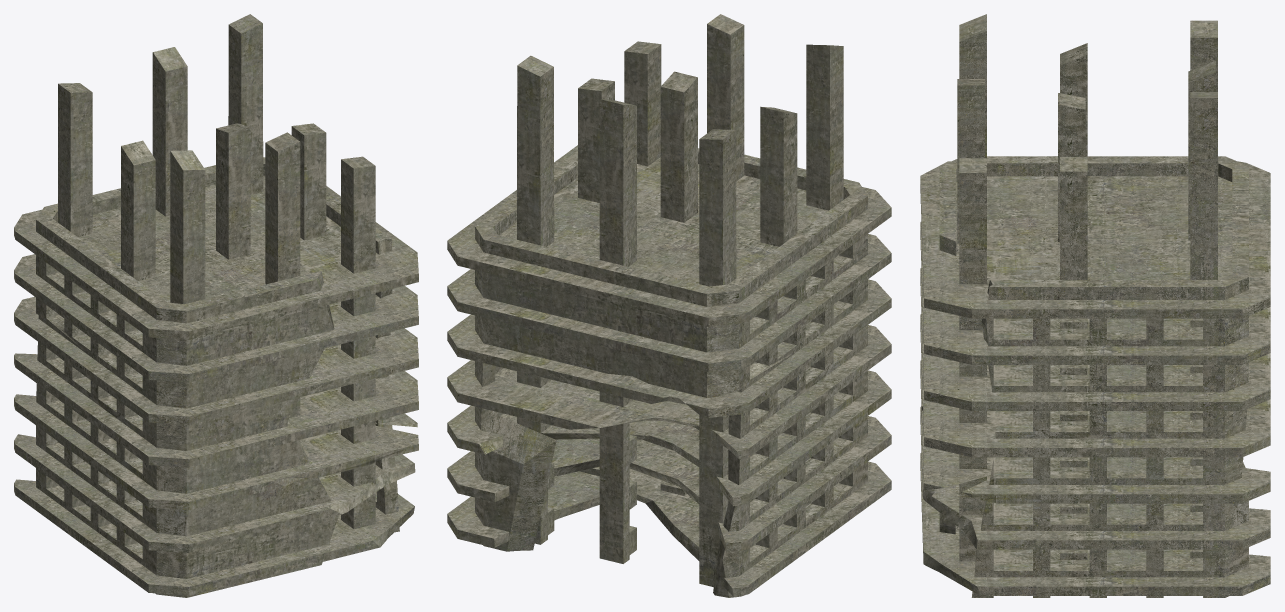
3 views of the same model, side by side, from view 1: azimuth 30°, elevation 25°; view 2: azimuth 150°, elevation 25°; view 3: azimuth 270°, elevation 25° (orthographic). The views are drawn at different scales.
Parts seen in each view (by area): view 1: Cube.005_2; view 2: Cube.005_2; view 3: Cube.005_2.
Part boxes in pixels (x1,y1,x2,y2): Cube.005_2: (14, 14, 418, 597); Cube.005_2: (447, 14, 891, 597); Cube.005_2: (920, 14, 1270, 597).
Bounding box in the file's own units: 2.55 × 3.86 × 2.55.
1 material, 1 textured.
